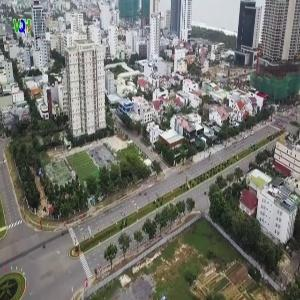drone: (25, 26, 52, 53)
